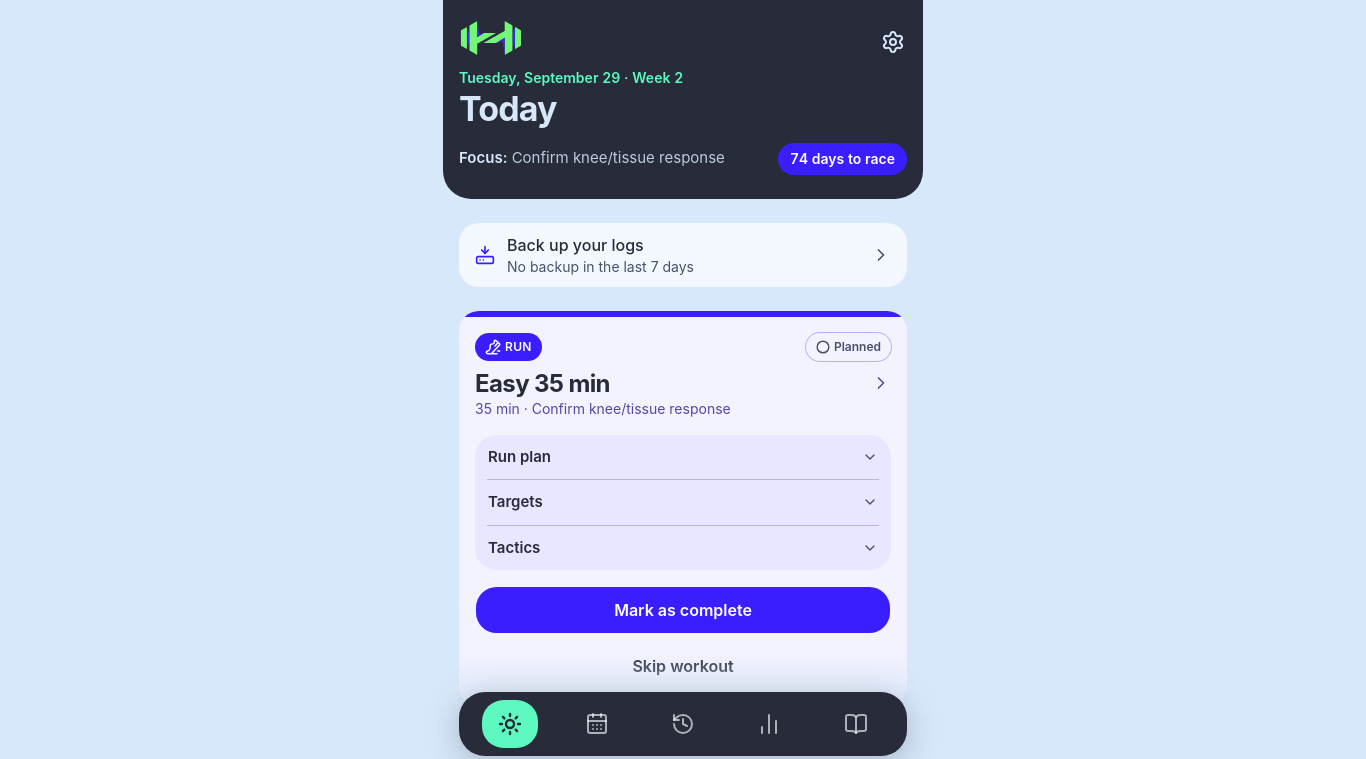
Test: running form › rejects Max HR below Avg HR
The width and height of the screenshot is (1366, 759).
Step 1. Click the button "Mark as complete" → coordinates (683, 610), box [475,586,891,634]
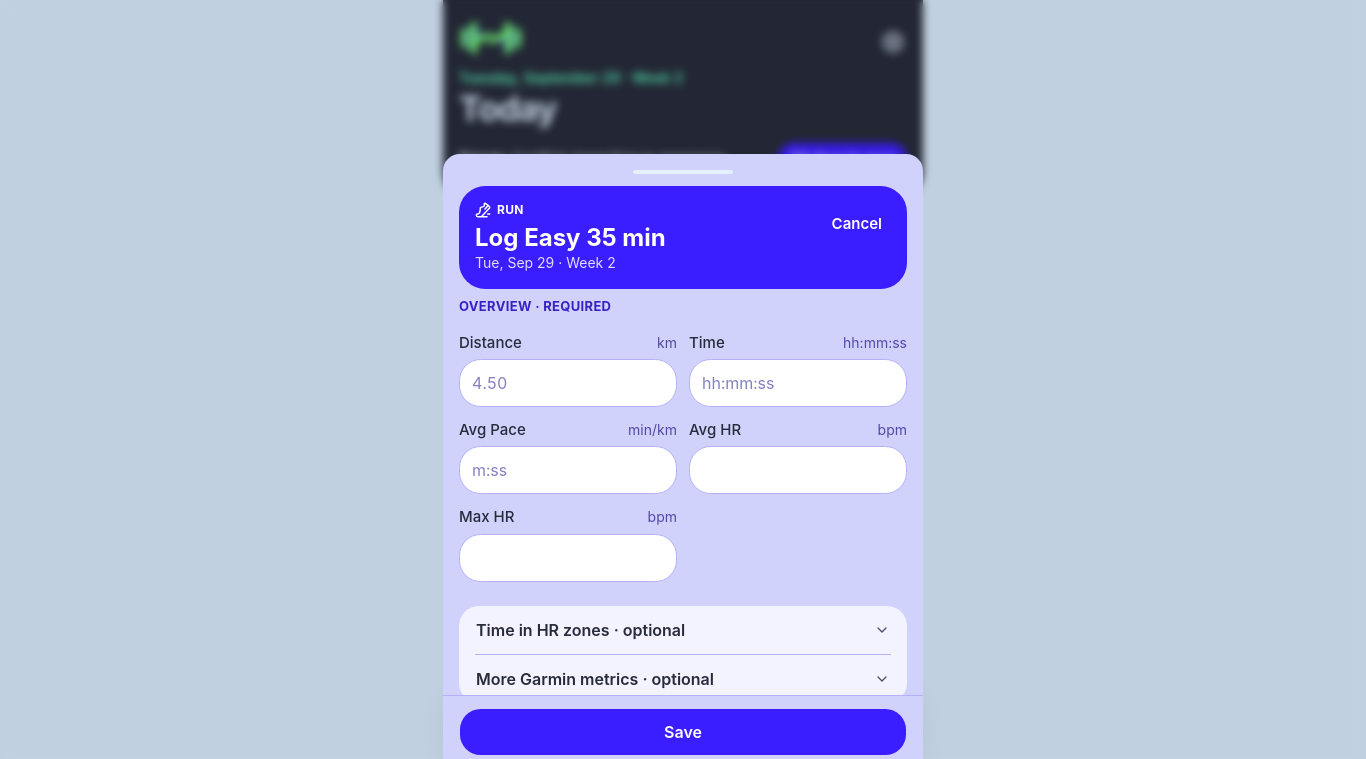
Step 2. Type "5" into the field labelled "Distance km" → coordinates (568, 383), box [459,359,677,407]
Step 3. Type "3500" into the field named "Time," → coordinates (798, 383), box [689,359,907,407]
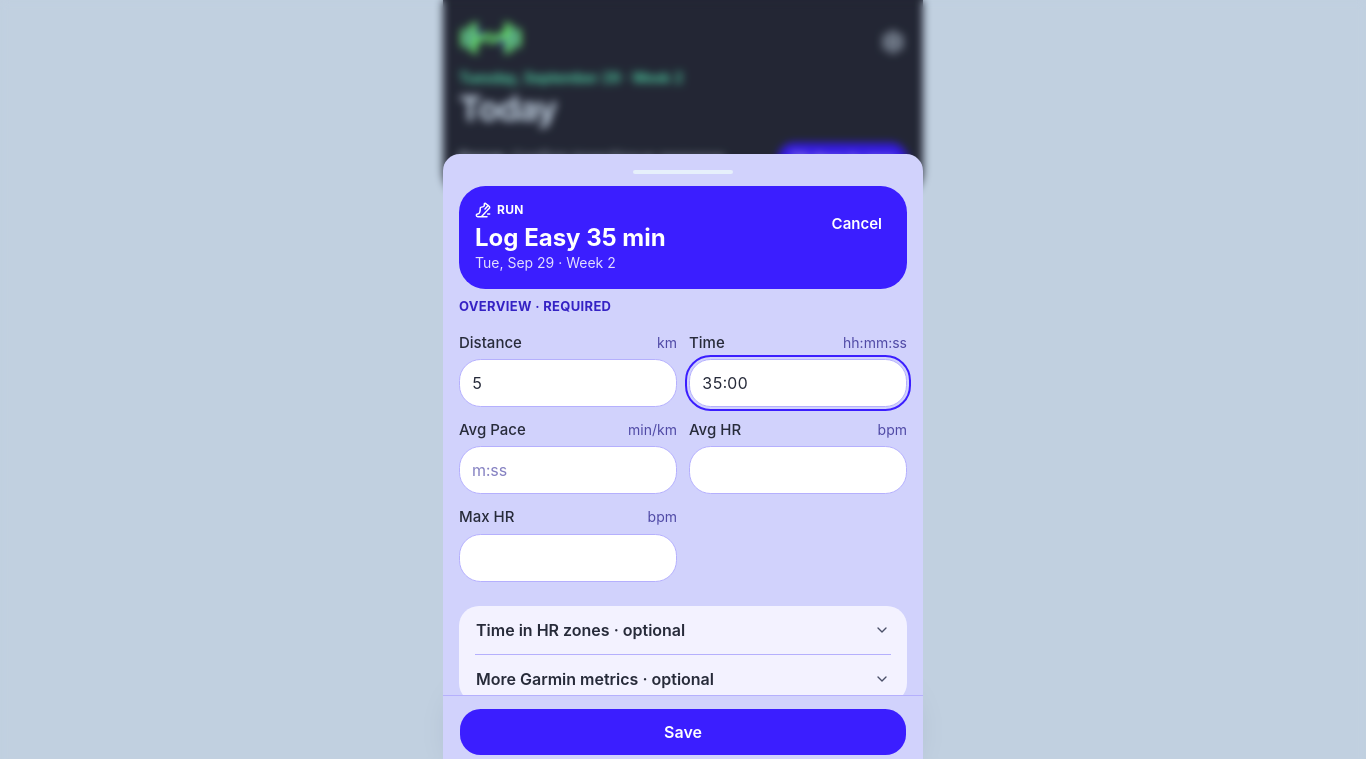
Step 4. Type "700" into the field labelled "Avg Pace min/km" → coordinates (568, 470), box [459,446,677,494]
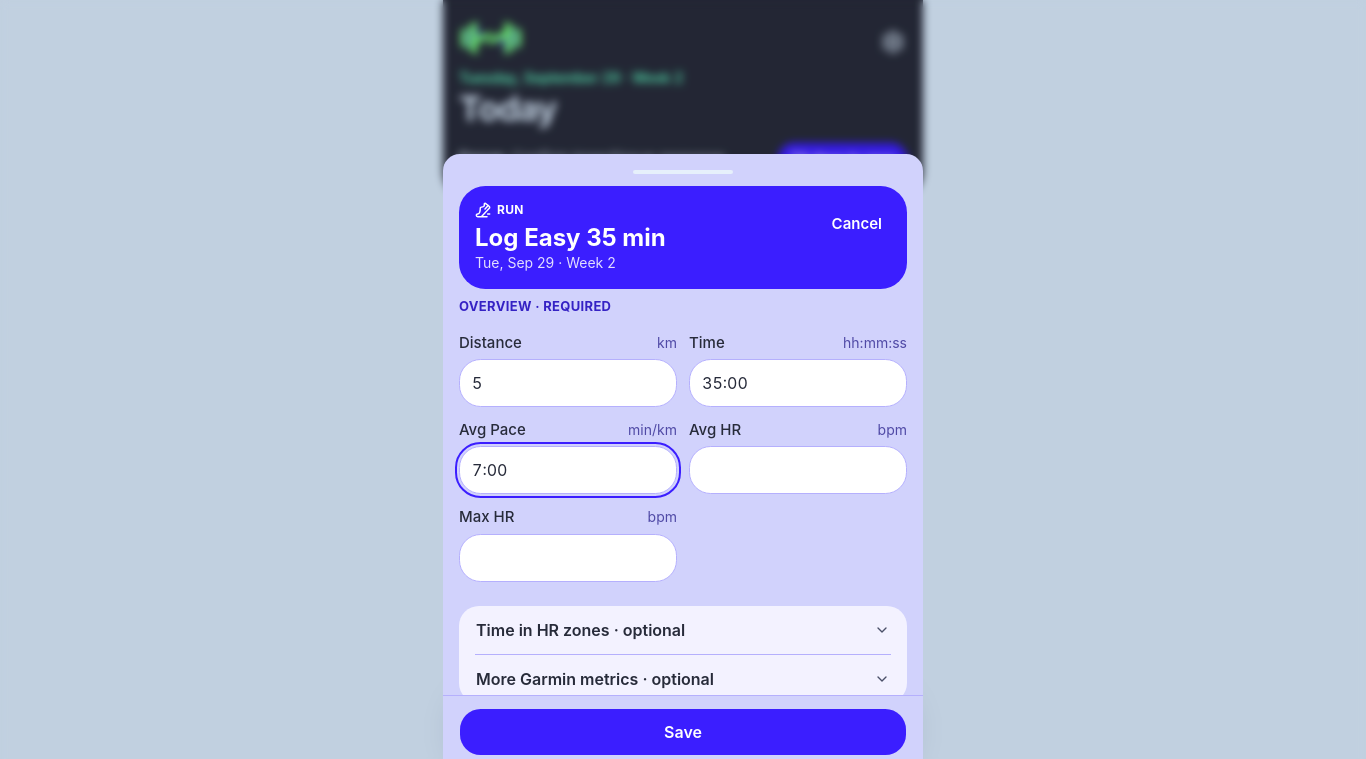
Step 5. Type "150" into the field labelled "Avg HR bpm" → coordinates (798, 470), box [689,446,907,494]
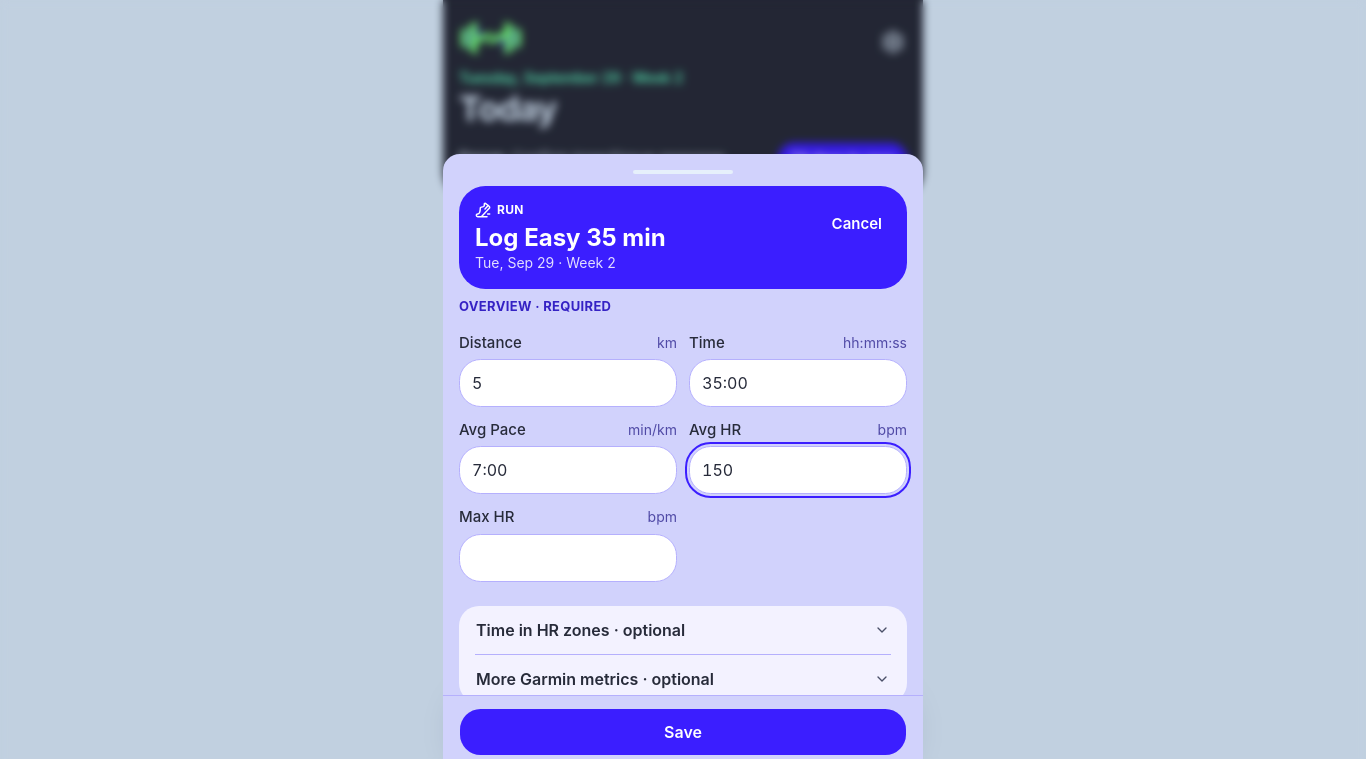
Step 6. Type "140" into the field labelled "Max HR bpm" → coordinates (568, 557), box [459,533,677,581]
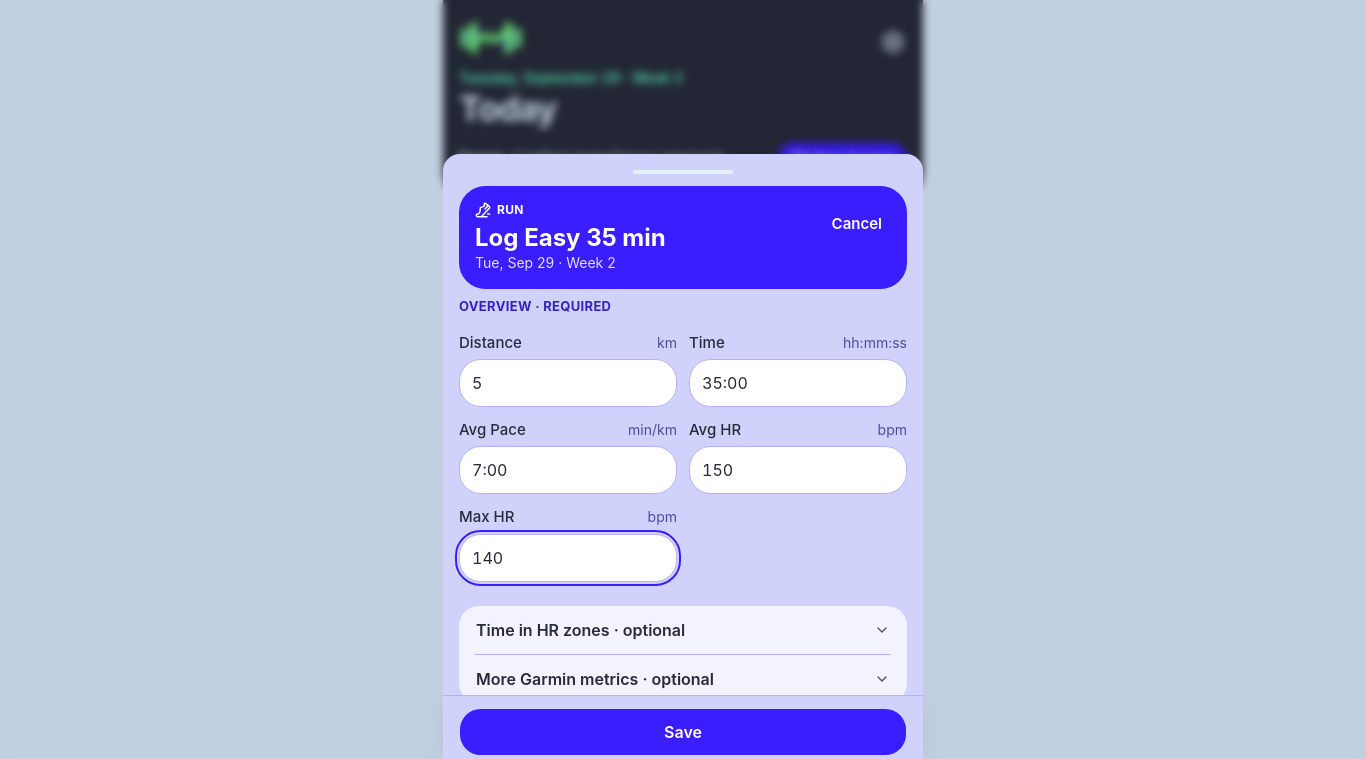
Step 7. Click the button "Save" → coordinates (683, 732), box [459,708,907,756]
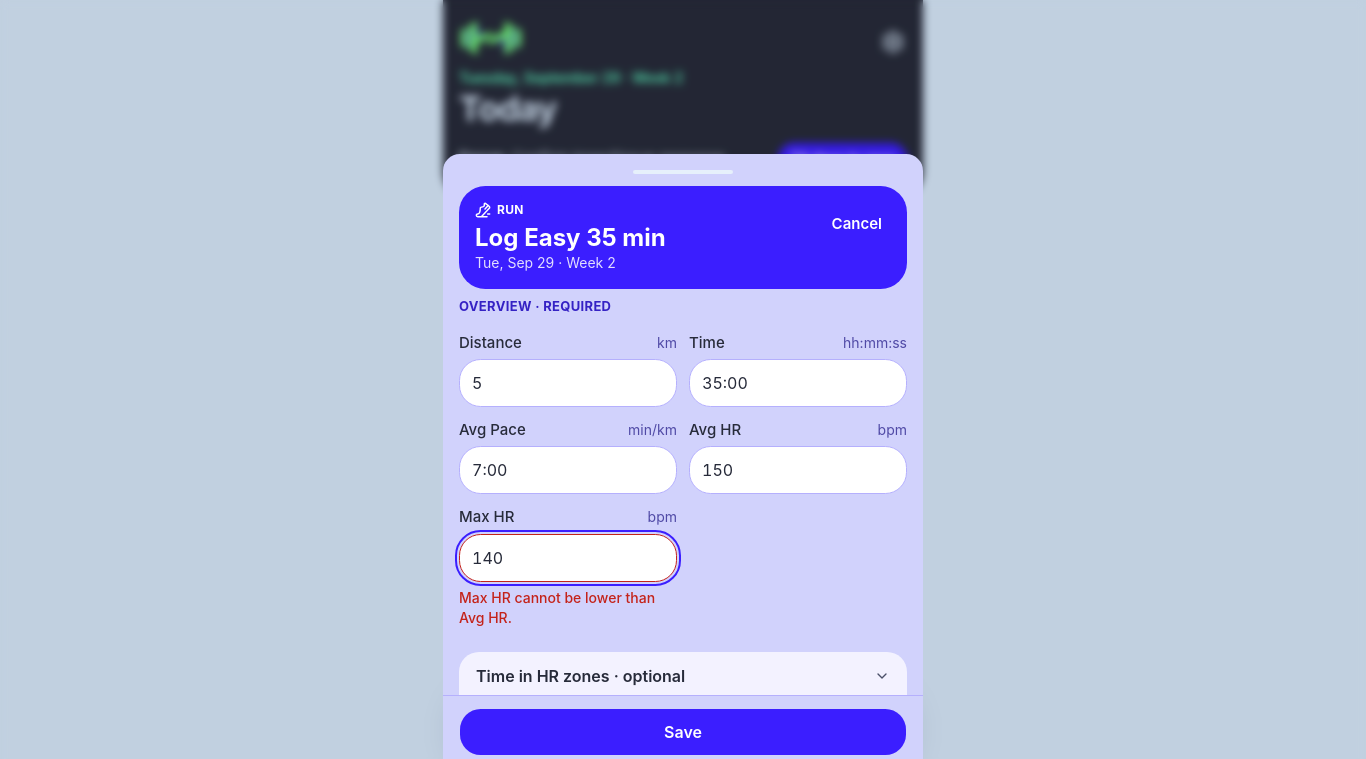
Result: the text "Max HR cannot be lower than Avg HR." is shown at [459,587,677,627]
